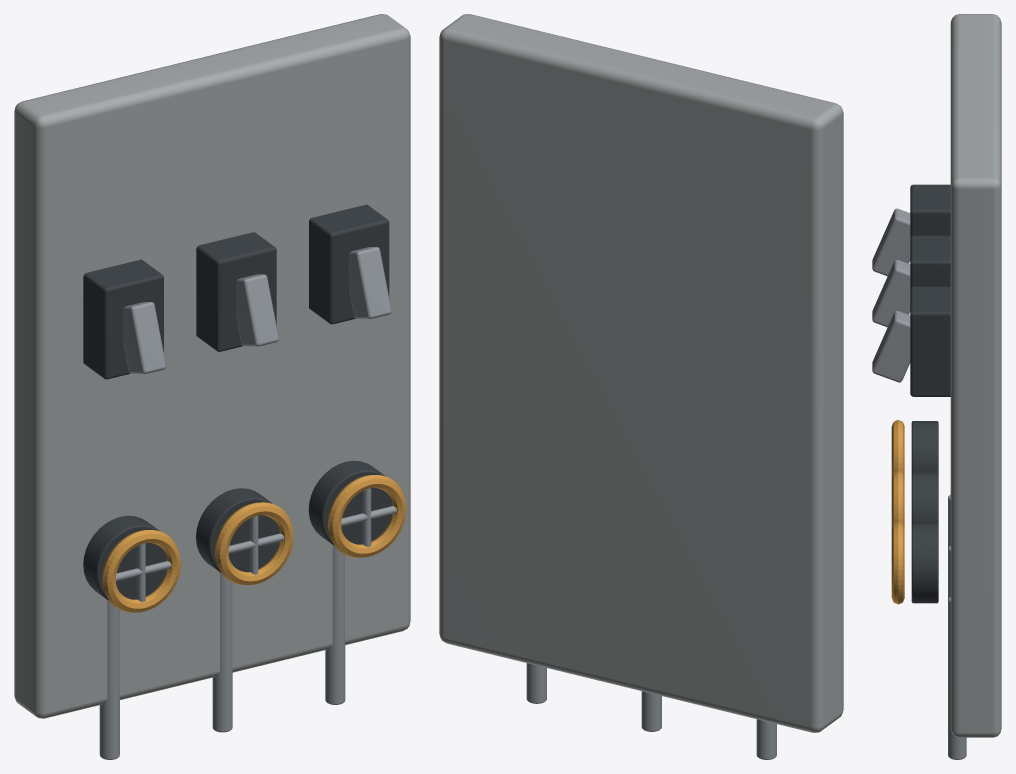
File: ZH_ENV_Power_Gas_Panel.fbx
3 renders of one model, left to right at view 1: azimuth 30°, elevation 25°; view 2: azimuth 150°, elevation 25°; view 3: azimuth 270°, elevation 25°, orthographic. The views are drawn at different scales.
Parts seen in each view (by area): view 1: Power and gas | panel.001, Power | independent switch 1.001, Power | independent switch 2.001, Power | independent switch 3.001, Gas | socket.004, Gas | socket.003, Gas | socket.005, Gas | editable valve 1.001, Gas | editable valve 2.001, Gas | editable valve 3.001, Power | handle 3.001, Power | handle 1.001 (+4 smaller); view 2: Power and gas | panel.001, Gas | pipe.004, Gas | pipe.003, Gas | pipe.005; view 3: Power and gas | panel.001, Power | independent switch 3.001, Gas | socket.005, Power | independent switch 1.001, Power | independent switch 2.001, Power | handle 3.001, Power | handle 1.001, Power | handle 2.001, Gas | socket.003, Gas | socket.004, Gas | editable valve 3.001, Gas | pipe.005 (+2 smaller).
Part boxes in pixels (left/top/right/bottom): Power and gas | panel.001: left=14, top=14, right=410, bottom=718; Power | independent switch 1.001: left=83, top=259, right=163, bottom=379; Power | independent switch 2.001: left=196, top=232, right=276, bottom=351; Power | independent switch 3.001: left=309, top=204, right=389, bottom=324; Gas | socket.004: left=196, top=488, right=279, bottom=572; Gas | socket.003: left=83, top=515, right=167, bottom=600; Gas | socket.005: left=308, top=460, right=392, bottom=545; Gas | editable valve 1.001: left=102, top=530, right=180, bottom=612; Gas | editable valve 2.001: left=215, top=502, right=293, bottom=585; Gas | editable valve 3.001: left=328, top=475, right=406, bottom=557; Power | handle 3.001: left=348, top=247, right=391, bottom=318; Power | handle 1.001: left=123, top=302, right=166, bottom=374; Power and gas | panel.001: left=439, top=14, right=843, bottom=732; Gas | pipe.004: left=641, top=691, right=661, bottom=731; Gas | pipe.003: left=756, top=719, right=776, bottom=759; Gas | pipe.005: left=526, top=663, right=546, bottom=703; Power and gas | panel.001: left=950, top=14, right=1001, bottom=737; Power | independent switch 3.001: left=910, top=286, right=950, bottom=396; Gas | socket.005: left=911, top=523, right=938, bottom=603; Power | independent switch 1.001: left=910, top=184, right=950, bottom=237; Power | independent switch 2.001: left=910, top=235, right=950, bottom=288; Power | handle 3.001: left=872, top=310, right=910, bottom=382; Power | handle 1.001: left=872, top=208, right=910, bottom=276; Power | handle 2.001: left=872, top=259, right=910, bottom=327; Gas | socket.003: left=911, top=421, right=938, bottom=473; Gas | socket.004: left=911, top=472, right=938, bottom=524; Gas | editable valve 3.001: left=891, top=522, right=904, bottom=604; Gas | pipe.005: left=948, top=597, right=966, bottom=759.
Bounding box in the file's own units: 1.5 × 2.5 × 0.4815.
